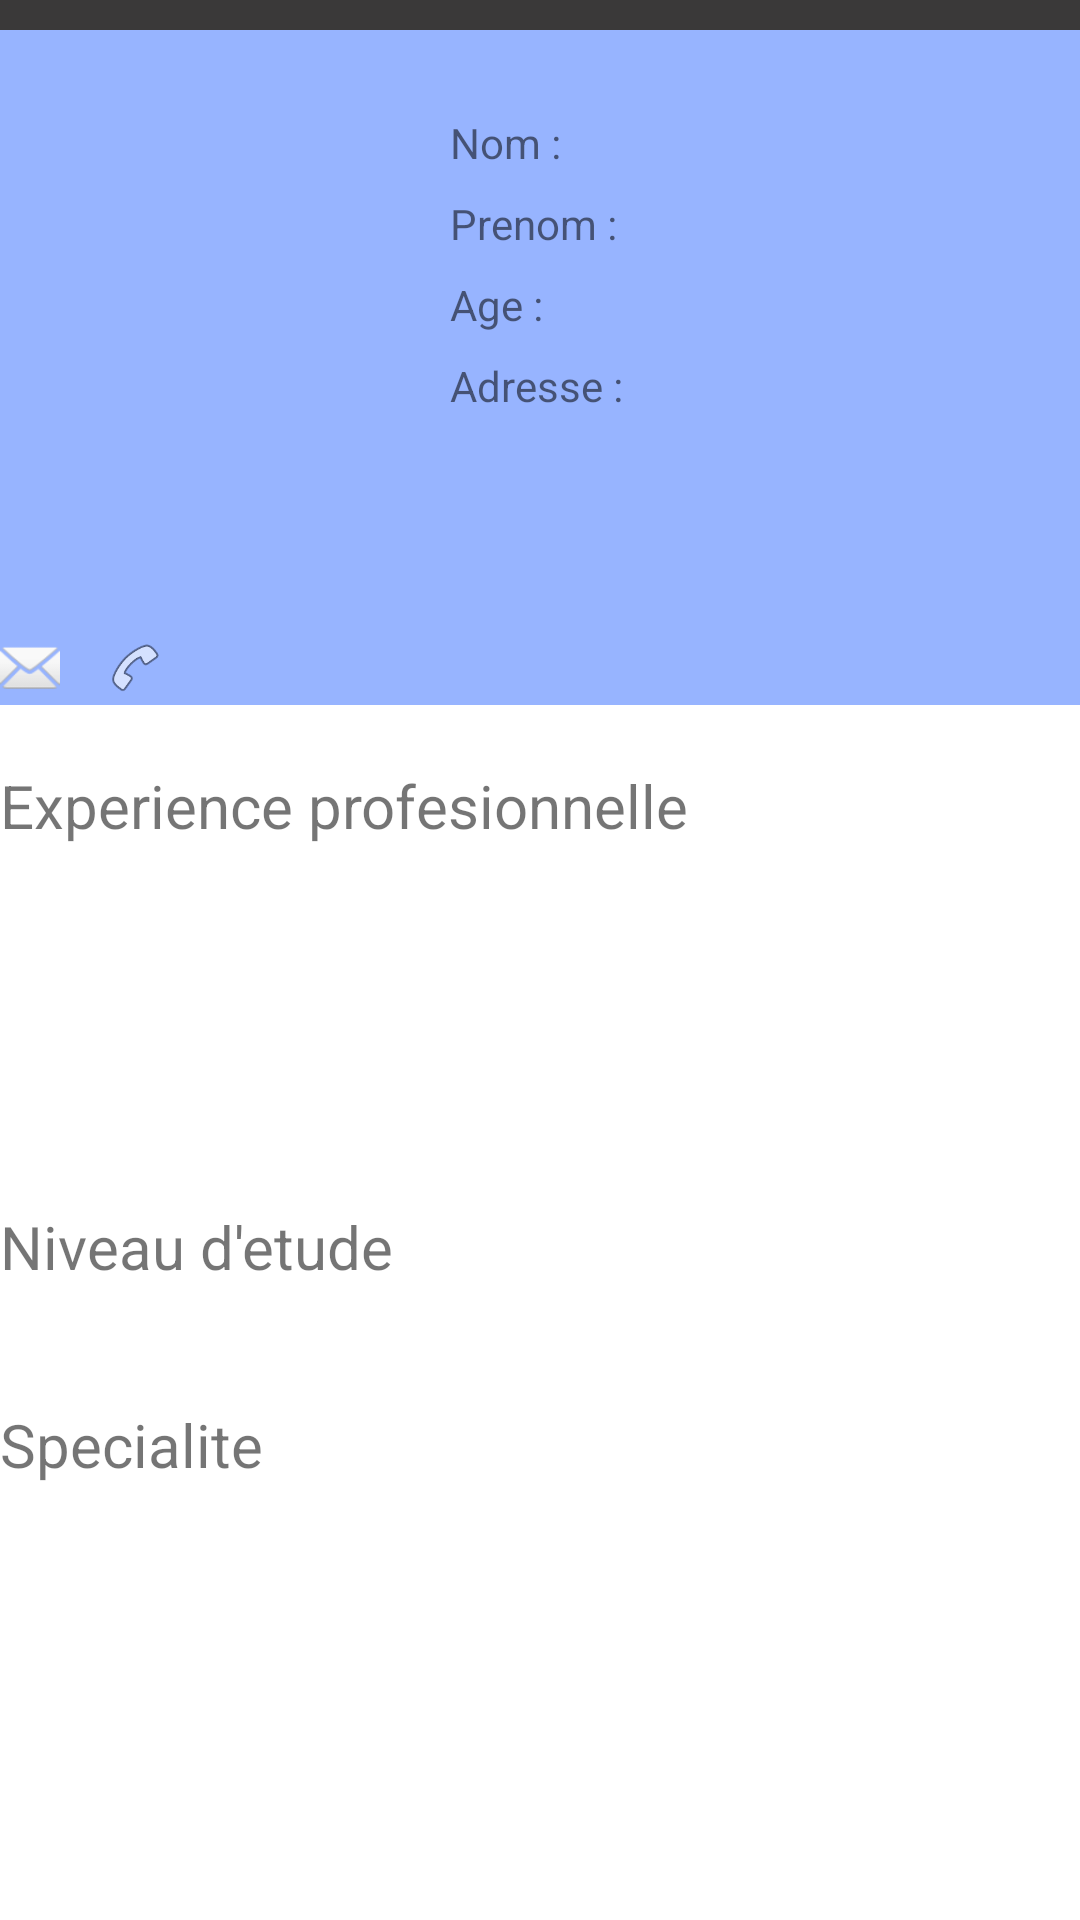

Icons on this 1080px×1920px Android screen, each with the point to tap as [x,y]:
call: [135,667]
email: [30,668]
